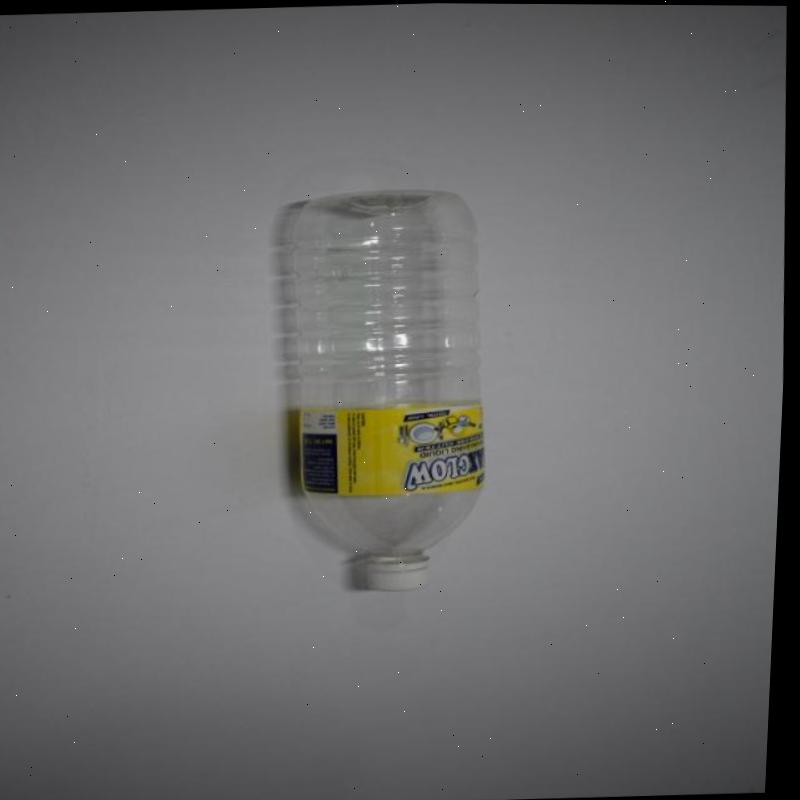botella: (272, 183, 505, 592)
